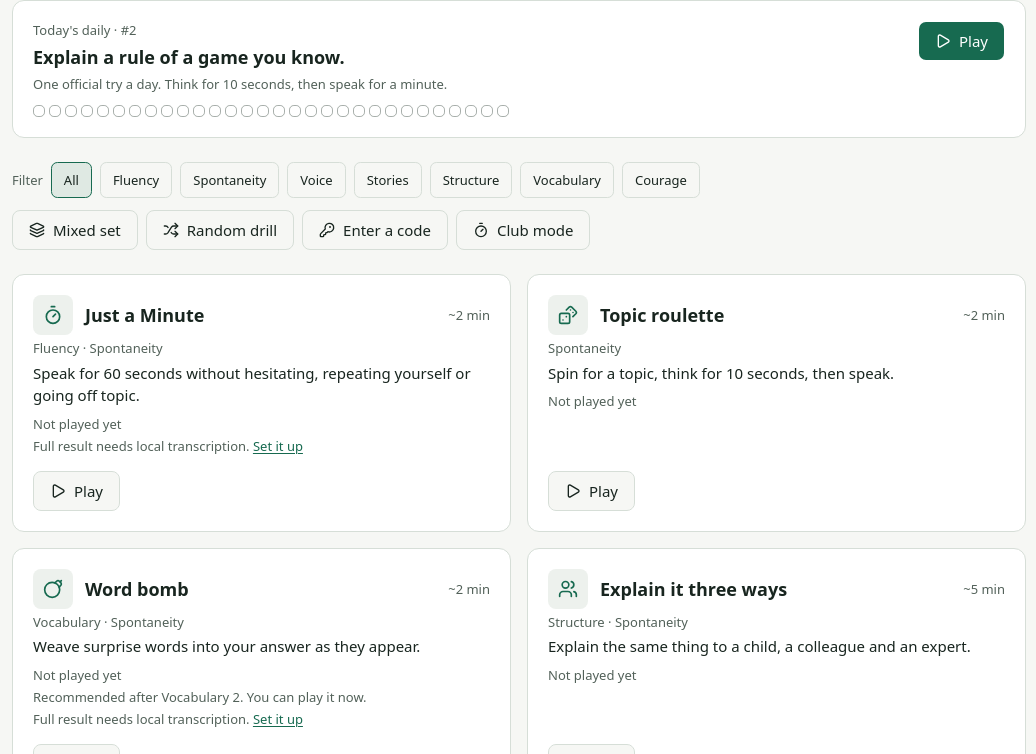
Test: Exercises → Drills (10.14) › filters by area
Expected: the heading "Just a Minute" is shown, top-left (85, 303), bottom-right (204, 327)
Click the radio button labelled "Voice": (316, 180) top-left (287, 162), bottom-right (346, 198)
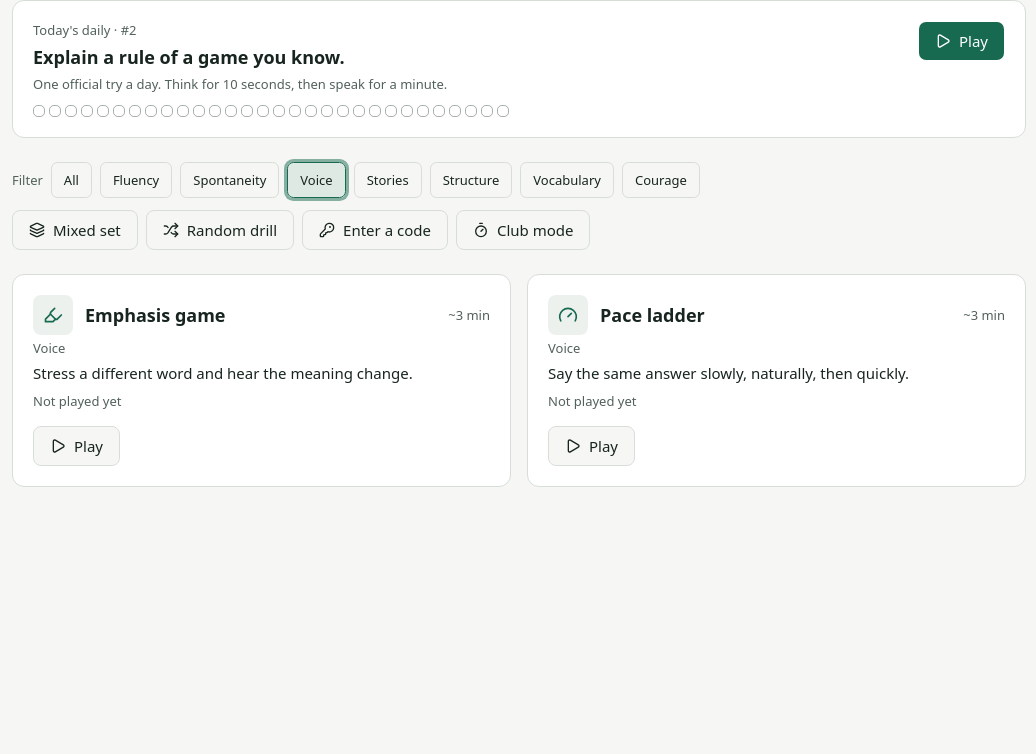
Expected: the headings read "Emphasis game", "Pace ladder", in this order, top-left (85, 303), bottom-right (226, 327); top-left (600, 303), bottom-right (705, 327)
